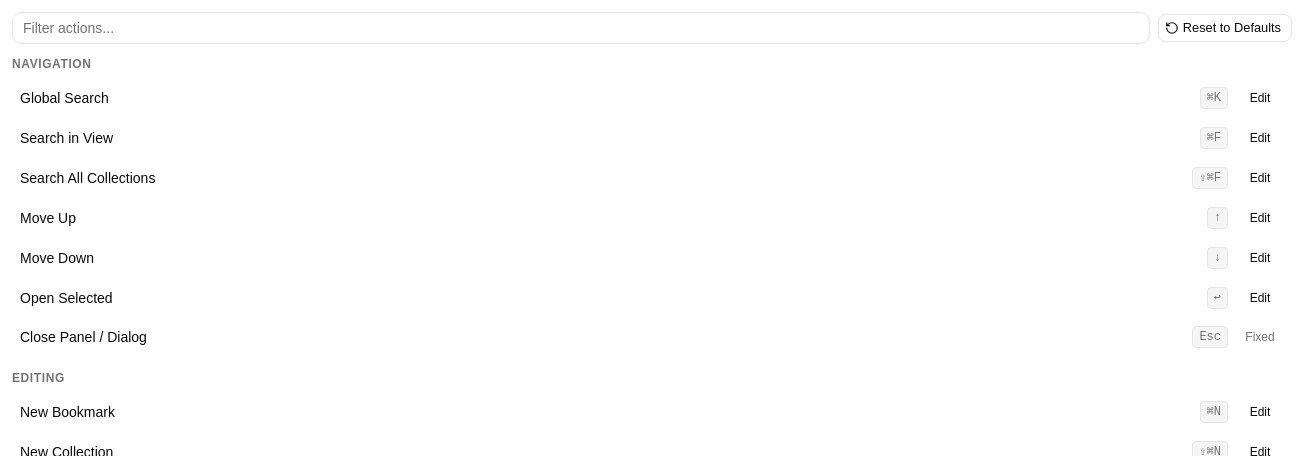
ShortcutEditor › shows only the actions whose name matches the filter
Type "grid" into the field labelled "Filter actions" at (581, 28), box [12,12,1150,44]
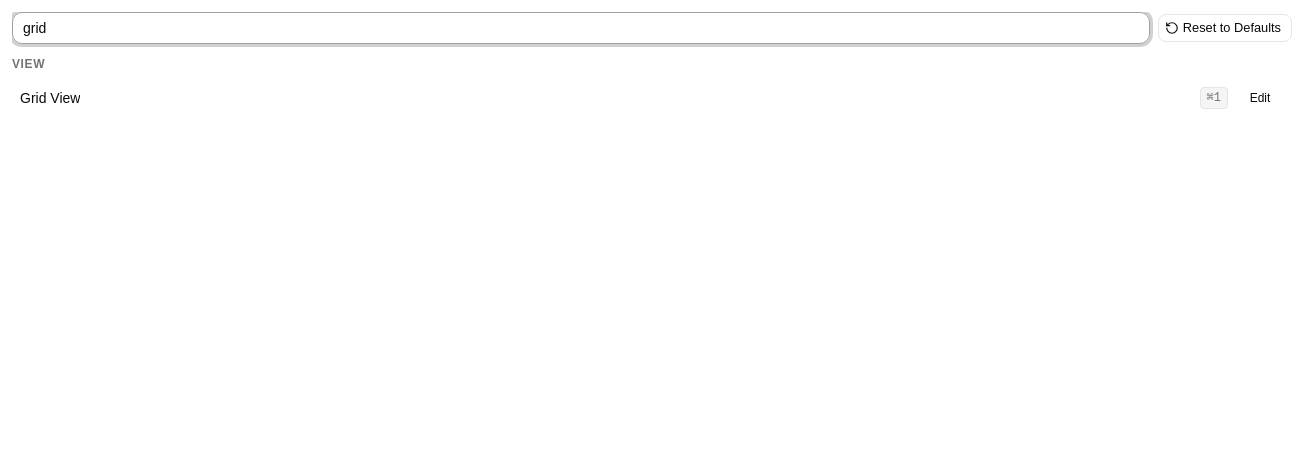
Check: the element with test id "shortcut-row-viewGrid" is shown, box [12,80,1292,116]
Check: the element with test id "shortcut-row-newBookmark" is gone
